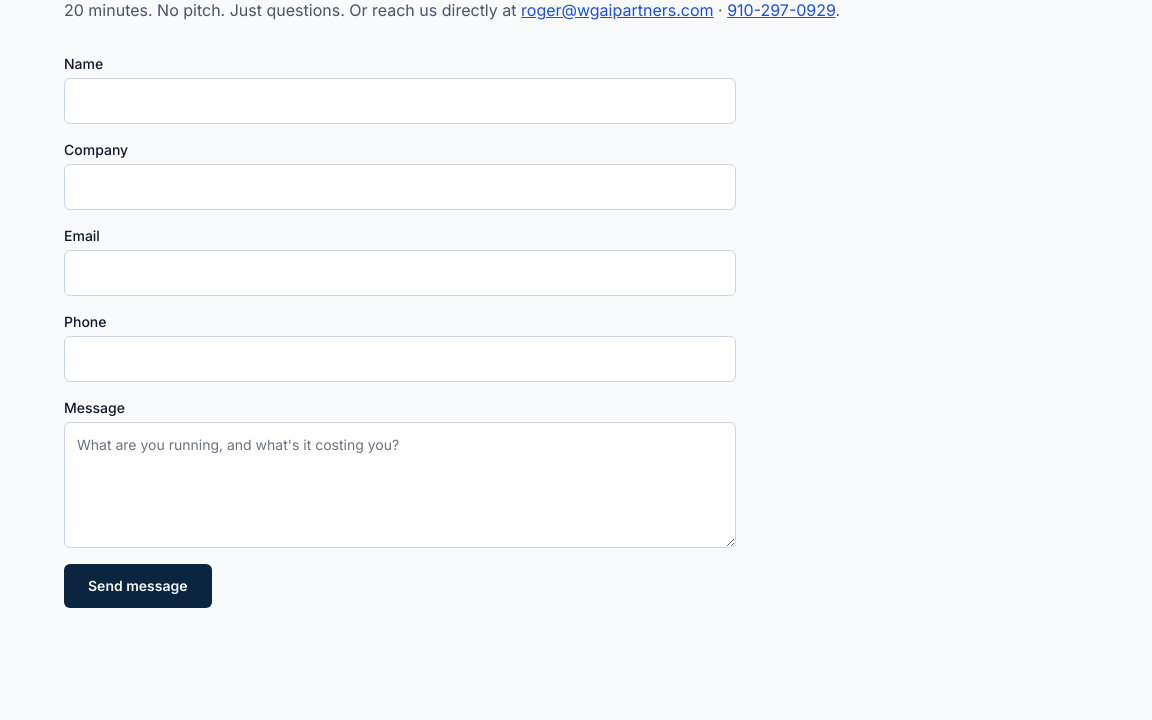
it: ContactSection › shows validation errors and does not submit when empty
The width and height of the screenshot is (1152, 720).
(page scrolled)
What coordinates should you click on to do the following:
click the button "Send message"
I would click on:
 (138, 586)
Its box is [64, 564, 212, 608].
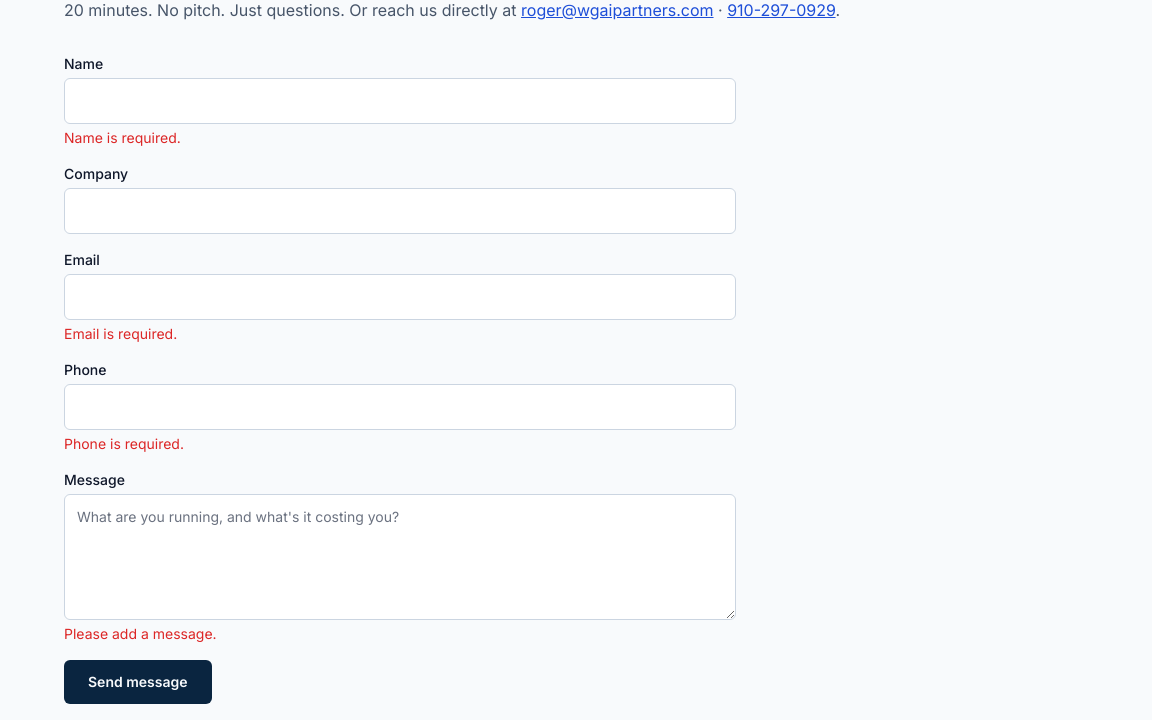
Result: the text "Name is required." is shown at [64, 129, 181, 146]
